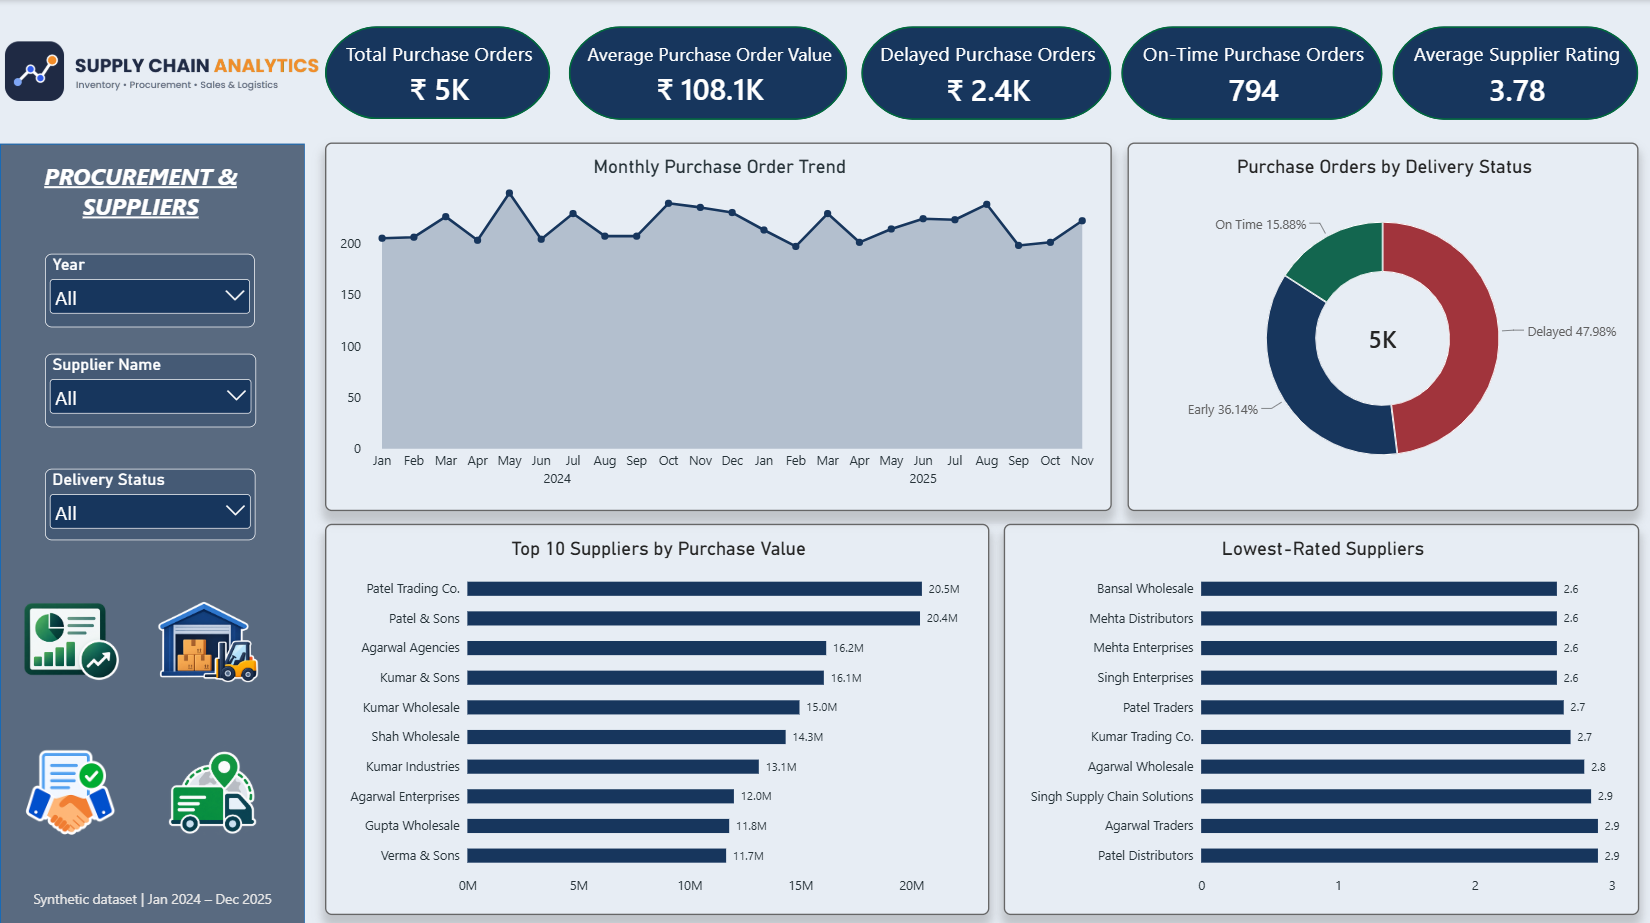

Layout of this report page (visuals, bound fields, positions):
{"tool":"powerbi","page":{"name":"Procurement & Suppliers","canvas":[1920,1080],"ordinal":2},"visuals":[{"type":"cardVisual","fields":{"Data":["Purchase_orders.Total Purchase Orders"]},"box":[378.2,30.6,263,108.1],"z":0},{"type":"cardVisual","fields":{"Data":["Purchase_orders.Average Purchase Order Value"]},"box":[661,30.6,324.2,109.9],"z":1000},{"type":"cardVisual","fields":{"Data":["Purchase_orders.Delayed Purchase Orders"]},"box":[1001.4,30.6,291.8,109.9],"z":2000},{"type":"cardVisual","fields":{"Data":["Suppliers.Average Supplier Rating"]},"box":[1619.2,30.6,286.4,109.9],"z":3000},{"type":"cardVisual","fields":{"Data":["Purchase_orders.On-Time Purchase Orders"]},"box":[1304,30.6,304.4,109.9],"z":4000},{"type":"lineChart","title":"Monthly Purchase Order Trend","fields":{"Category":["DateTable.Year","DateTable.Month"],"Y":["Purchase_orders.Total Purchase Orders"]},"box":[378.2,165.7,915,428.7],"z":5000},{"type":"donutChart","title":"Purchase Orders by Delivery Status","fields":{"Category":["Purchase_orders.delivery_status"],"Y":["Purchase_orders.Total Purchase Orders"]},"box":[1311.2,165.7,594.4,428.7],"z":6000},{"type":"clusteredBarChart","title":"Top 10 Suppliers by Purchase Value","fields":{"Category":["Suppliers.supplier_name"],"Y":["Purchase_orders.Total Purchase Value"]},"box":[378.5,608.7,772.7,455.2],"z":7000},{"type":"shape","box":[0,167,354.8,912],"z":8000},{"type":"clusteredBarChart","title":"Lowest-Rated Suppliers","fields":{"Category":["Suppliers.supplier_name"],"Y":["Avg(Suppliers.supplier_rating)"]},"box":[1166.9,608.7,739.5,455.2],"z":9000},{"type":"slicer","fields":{"Values":["Shipments.delivery_date.Variation.Date Hierarchy.Year"]},"box":[52.3,294.8,244.2,85.5],"z":10000},{"type":"slicer","fields":{"Values":["Suppliers.supplier_name"]},"box":[52.3,411.6,245.9,85.5],"z":11000},{"type":"slicer","fields":{"Values":["Purchase_orders.delivery_status"]},"box":[52.2,545.7,245,82.9],"z":12000},{"type":"image","box":[1.8,677.2,162.1,133.3],"z":13000},{"type":"image","box":[176.5,677.2,131.5,135.1],"z":14000},{"type":"image","box":[14.4,846.5,135.1,145.9],"z":15000},{"type":"image","box":[176.5,846.5,134.7,145.7],"z":16000},{"type":"image","box":[0,0,378.2,165.7],"z":17000},{"type":"textbox","box":[1.8,185.5,324.2,91.9],"z":18000},{"type":"textbox","box":[1.7,1034.3,352.3,45.3],"z":19000}]}

Visuals, with their boxes in screenshot pixels (x1, y1, x2, y2), scaled from the page's 1920x1080 canvas onto the 1650x923 screenshot:
cardVisual - Purchase_orders.Total Purchase Orders: [325, 26, 551, 119]
cardVisual - Purchase_orders.Average Purchase Order Value: [568, 26, 847, 120]
cardVisual - Purchase_orders.Delayed Purchase Orders: [861, 26, 1111, 120]
cardVisual - Suppliers.Average Supplier Rating: [1392, 26, 1638, 120]
cardVisual - Purchase_orders.On-Time Purchase Orders: [1121, 26, 1382, 120]
"Monthly Purchase Order Trend" lineChart: [325, 142, 1111, 508]
"Purchase Orders by Delivery Status" donutChart: [1127, 142, 1638, 508]
"Top 10 Suppliers by Purchase Value" clusteredBarChart: [325, 520, 989, 909]
shape: [0, 143, 305, 922]
"Lowest-Rated Suppliers" clusteredBarChart: [1003, 520, 1638, 909]
slicer - Shipments.delivery_date.Variation.Date Hierarchy.Year: [45, 252, 255, 325]
slicer - Suppliers.supplier_name: [45, 352, 256, 425]
slicer - Purchase_orders.delivery_status: [45, 466, 255, 537]
image: [2, 579, 141, 693]
image: [152, 579, 265, 694]
image: [12, 723, 128, 848]
image: [152, 723, 267, 848]
image: [0, 0, 325, 142]
textbox: [2, 159, 280, 237]
textbox: [1, 884, 304, 922]
